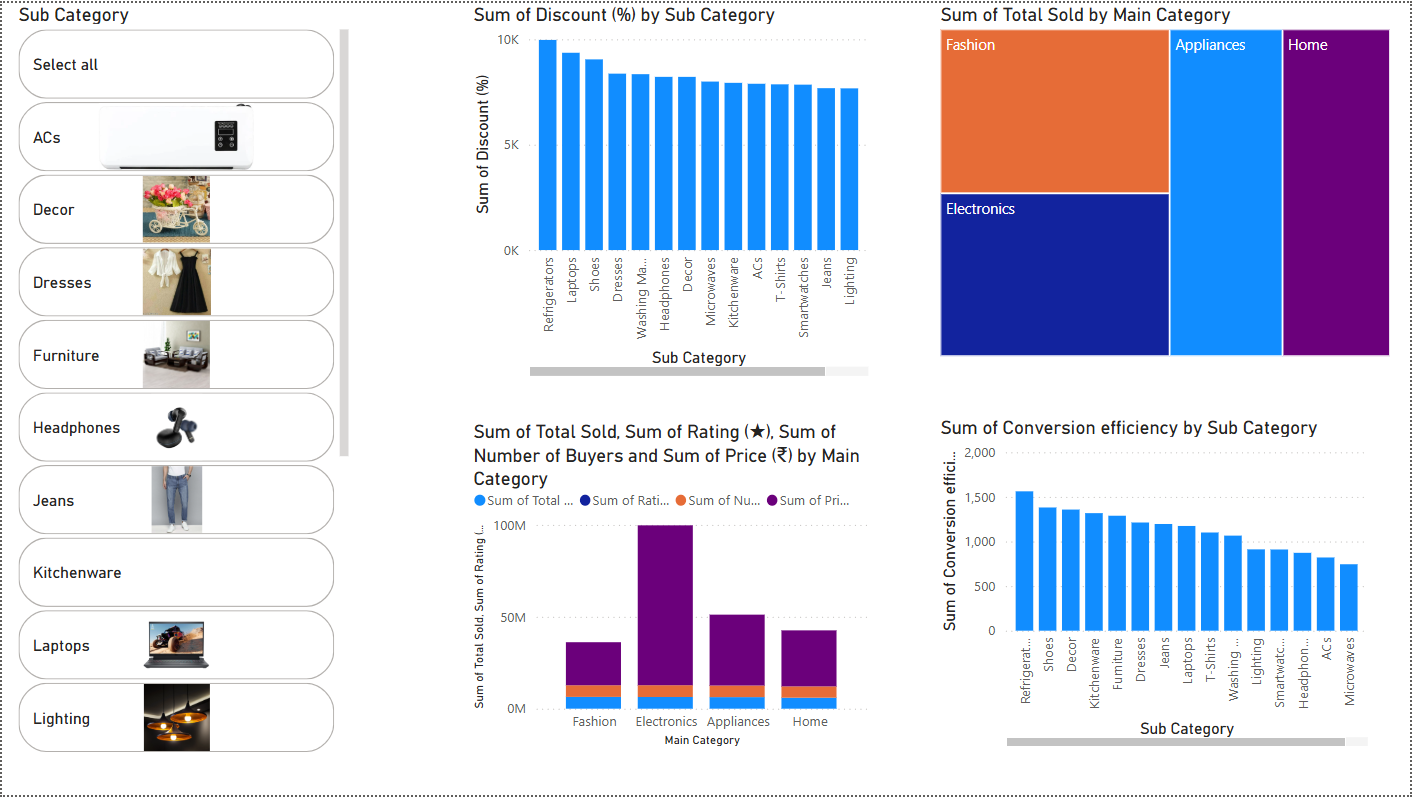

The page's visual inventory and layout, read from the dashboard file:
{"tool":"powerbi","page":{"name":"Page 1","canvas":[1280,720],"ordinal":0},"visuals":[{"type":"advancedSlicerVisual","fields":{"Values":["flipkart_products_with_images.Sub Category"]},"box":[10,0,310,687],"z":0},{"type":"clusteredColumnChart","fields":{"Category":["flipkart_products_with_images.Sub Category"],"Y":["Sum(flipkart_products_with_images.Discount (%))"]},"box":[423.6,0,369.1,343.6],"z":1},{"type":"columnChart","fields":{"Y":["Sum(flipkart_products_with_images.Total Sold)","Sum(flipkart_products_with_images.Rating (★))","Sum(flipkart_products_with_images.Number of Buyers)","Sum(flipkart_products_with_images.Price (₹))"],"Category":["flipkart_products_with_images.Main Category"]},"box":[423.6,375.5,369.1,305.5],"z":2},{"type":"columnChart","fields":{"Category":["flipkart_products_with_images.Sub Category"],"Y":["Sum(flipkart_products_with_images.Conversion efficiency)"]},"box":[848.2,375.5,399.1,305.5],"z":4},{"type":"treemap","fields":{"Group":["flipkart_products_with_images.Main Category"],"Values":["Sum(flipkart_products_with_images.Total Sold)"]},"box":[848.2,0,419.1,326.4],"z":5}]}

Visuals, with their boxes in screenshot pixels (x1, y1, x2, y2), scaled from the page's 1280x720 canvas onto the 1412x798 screenshot:
advancedSlicerVisual - flipkart_products_with_images.Sub Category: <region>11, 0, 353, 761</region>
clusteredColumnChart - flipkart_products_with_images.Sub Category x Sum(flipkart_products_with_images.Discount (%)): <region>467, 0, 874, 381</region>
columnChart - Sum(flipkart_products_with_images.Total Sold) x Sum(flipkart_products_with_images.Rating (★)): <region>467, 416, 874, 755</region>
columnChart - flipkart_products_with_images.Sub Category x Sum(flipkart_products_with_images.Conversion efficiency): <region>936, 416, 1376, 755</region>
treemap - flipkart_products_with_images.Main Category x Sum(flipkart_products_with_images.Total Sold): <region>936, 0, 1398, 362</region>
